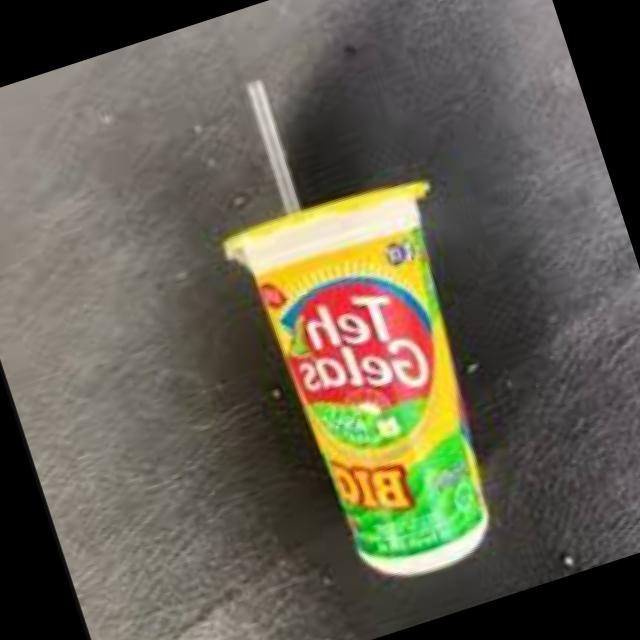GelasPlastik: (218, 165, 547, 602)
